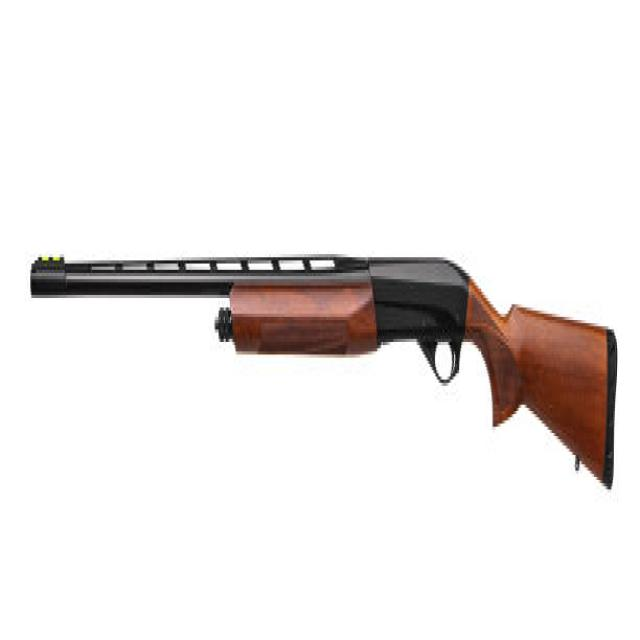rifle: (28, 243, 624, 503)
